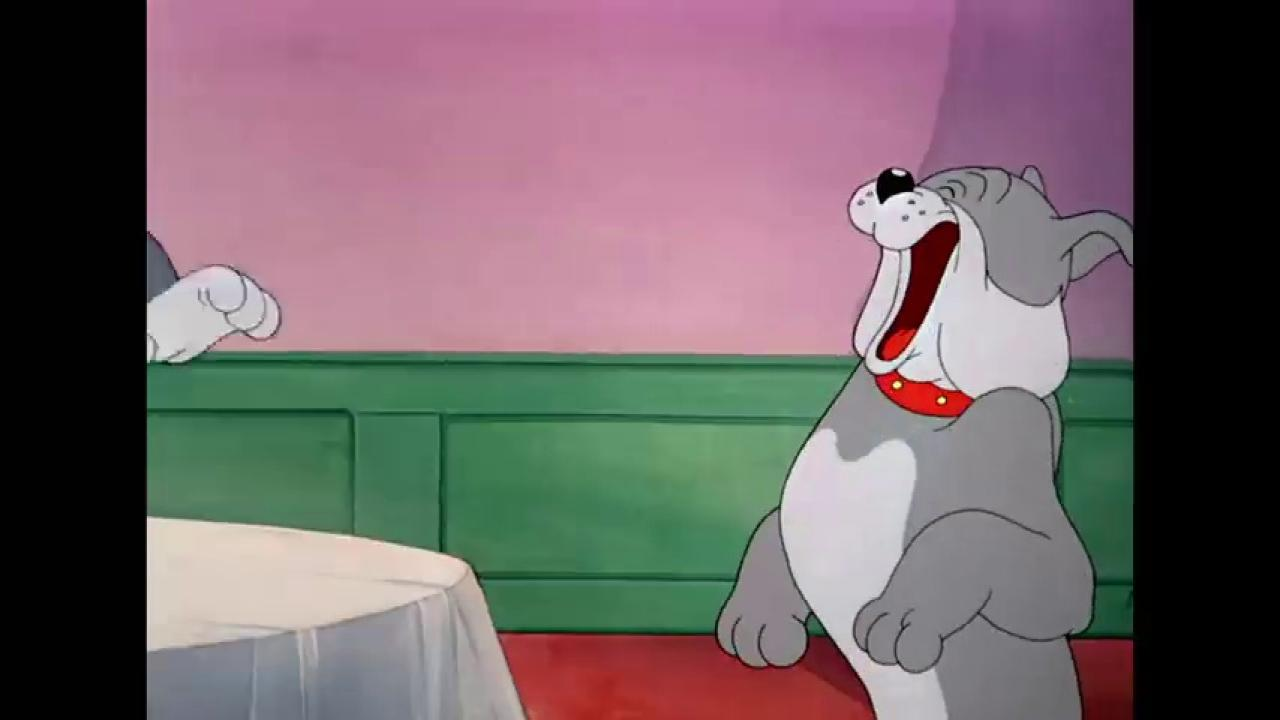Tom: (147, 208, 287, 365)
